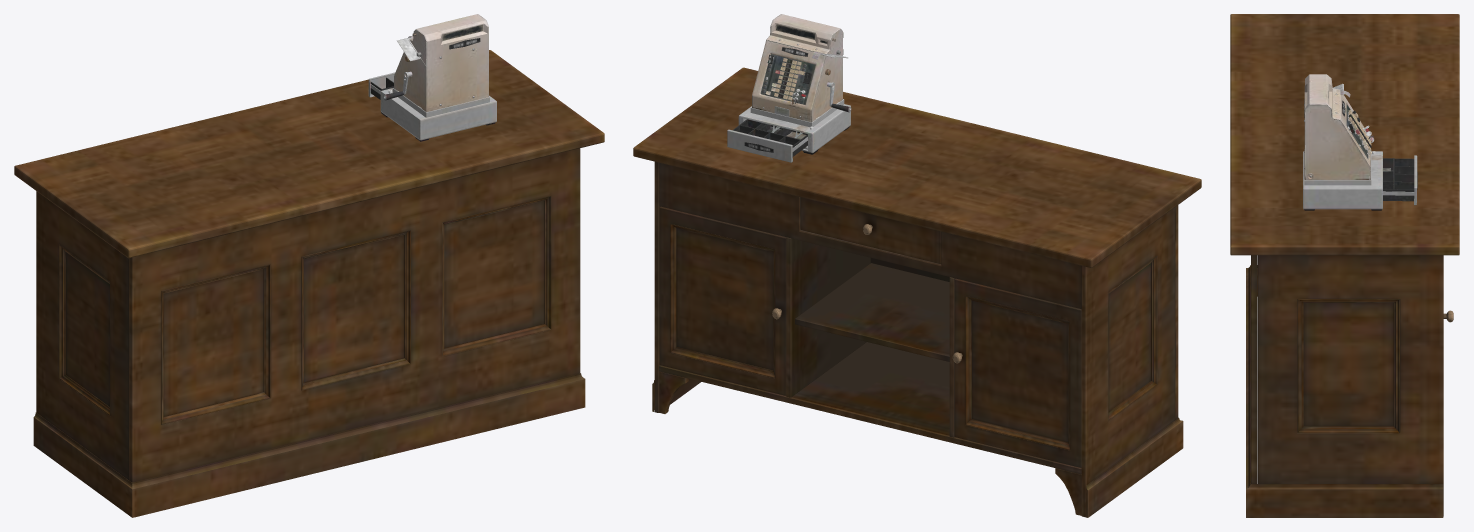
Rendered from service_counter.glb.
3 renders of one model, left to right at view 1: azimuth 30°, elevation 25°; view 2: azimuth 150°, elevation 25°; view 3: azimuth 270°, elevation 25°, orthographic. The views are drawn at different scales.
Visible parts, largest first — view 1: bar_counter_3_n0, CashRegister_01_1_n1; view 2: bar_counter_3_n0, CashRegister_01_1_n1, CashRegister_01_0_n1; view 3: bar_counter_3_n0, CashRegister_01_1_n1, CashRegister_01_0_n1.
Boxes of the visible parts, x1=… form: bar_counter_3_n0: x1=14, y1=50, x2=604, y2=517; CashRegister_01_1_n1: x1=380, y1=14, x2=496, y2=141; bar_counter_3_n0: x1=633, y1=67, x2=1201, y2=517; CashRegister_01_1_n1: x1=738, y1=14, x2=851, y2=154; CashRegister_01_0_n1: x1=727, y1=119, x2=807, y2=162; bar_counter_3_n0: x1=1230, y1=14, x2=1459, y2=517; CashRegister_01_1_n1: x1=1303, y1=74, x2=1382, y2=210; CashRegister_01_0_n1: x1=1383, y1=155, x2=1417, y2=205.
Size of the model in its own units: 1.8 by 1.37 by 0.75.
Materials: 4 (4 with a texture image).
